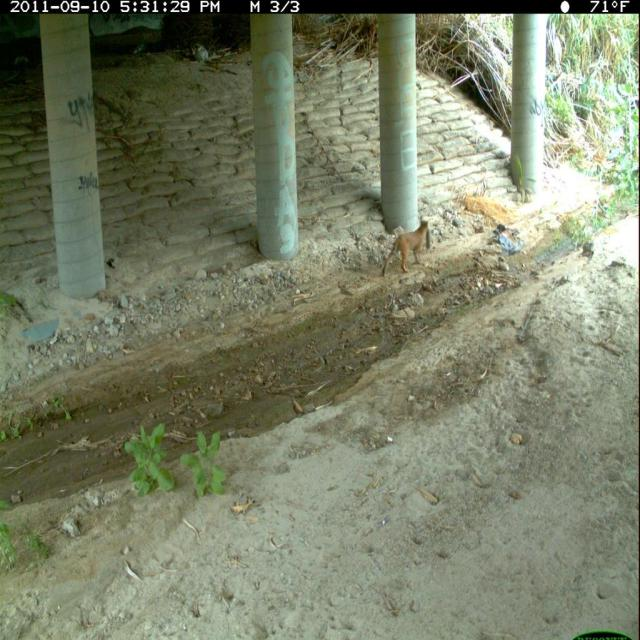bobcat: (378, 211, 435, 284)
rabbit: (425, 226, 434, 256)
